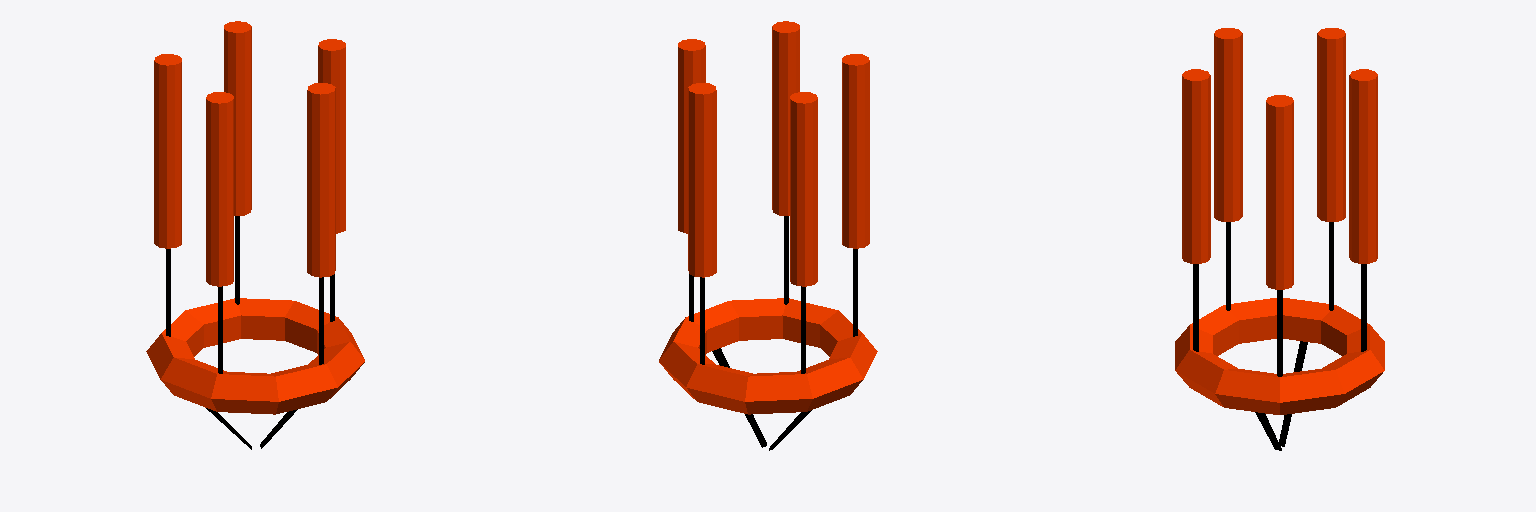
The model's file is wind_chime.obj.
3 views of the same model, side by side, from view 1: azimuth 30°, elevation 25°; view 2: azimuth 150°, elevation 25°; view 3: azimuth 270°, elevation 25° (orthographic).
Visible parts, largest first — view 1: Wind_Chime.007; view 2: Wind_Chime.007; view 3: Wind_Chime.007.
Part boxes in pixels (bbox=[...]): Wind_Chime.007: bbox=[146, 21, 364, 449]; Wind_Chime.007: bbox=[659, 21, 877, 450]; Wind_Chime.007: bbox=[1175, 28, 1384, 450].
Size of the model in its own units: 0.9375 by 1.8 by 0.8916.